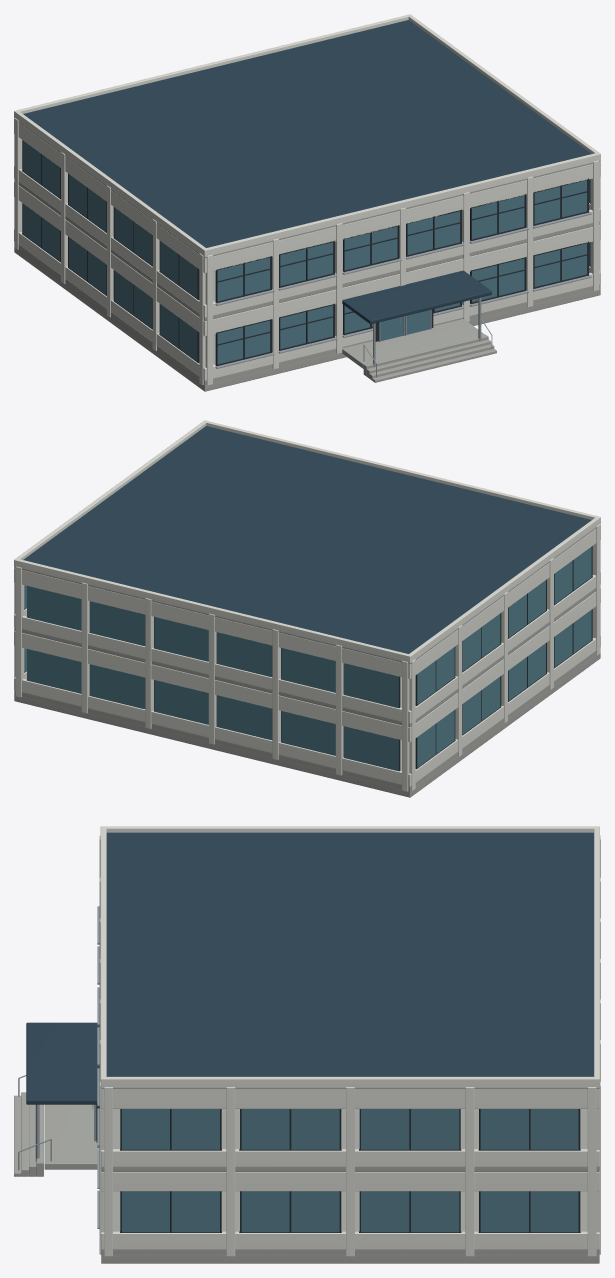
Rendered from SM_OfficeAnnex.fbx.
The picture shows the model from 3 angles, top to bottom: view 1: azimuth 30°, elevation 25°; view 2: azimuth 150°, elevation 25°; view 3: azimuth 270°, elevation 25°; orthographic projection. The views are drawn at different scales.
Parts seen in each view (by area): view 1: SM_OfficeAnnex; view 2: SM_OfficeAnnex; view 3: SM_OfficeAnnex.
Boxes of the visible parts, left/top/right/bottom form: SM_OfficeAnnex: left=14, top=14, right=600, bottom=391; SM_OfficeAnnex: left=14, top=420, right=600, bottom=797; SM_OfficeAnnex: left=14, top=826, right=600, bottom=1263.
Bounding box in the file's own units: 2412 × 2356 × 820.
